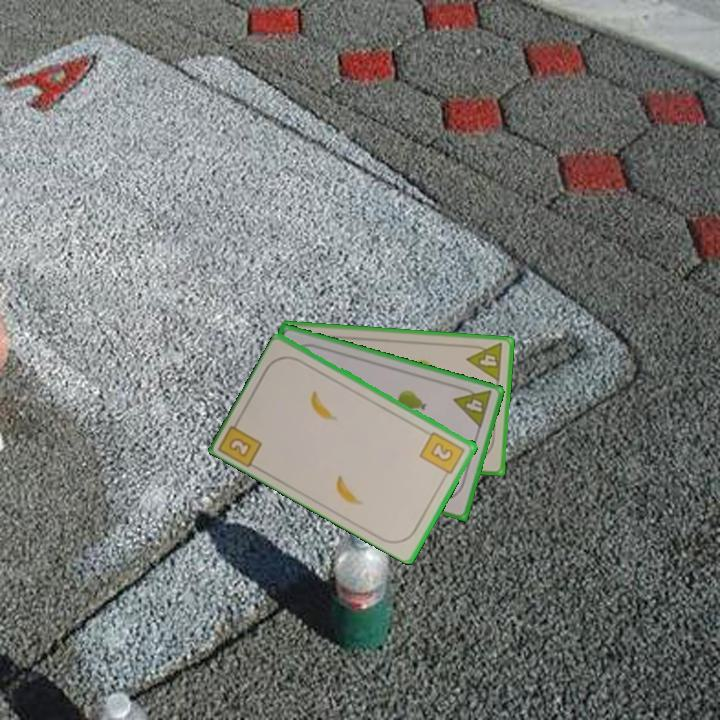2b: (417, 428, 468, 481), (217, 413, 265, 469)
4p: (450, 382, 495, 431), (464, 340, 506, 384)
